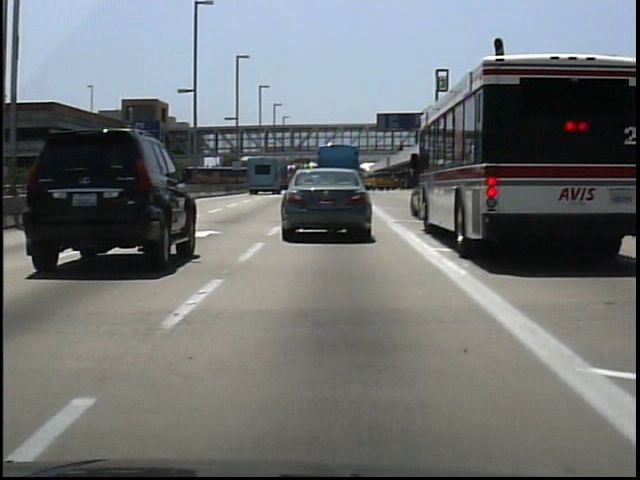person: (395, 136, 408, 157), (371, 137, 384, 157)
